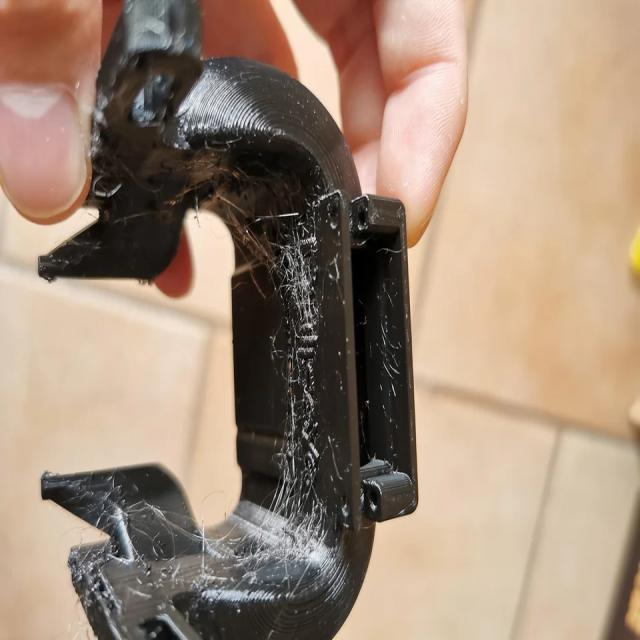Stringing: (255, 218, 336, 577)
